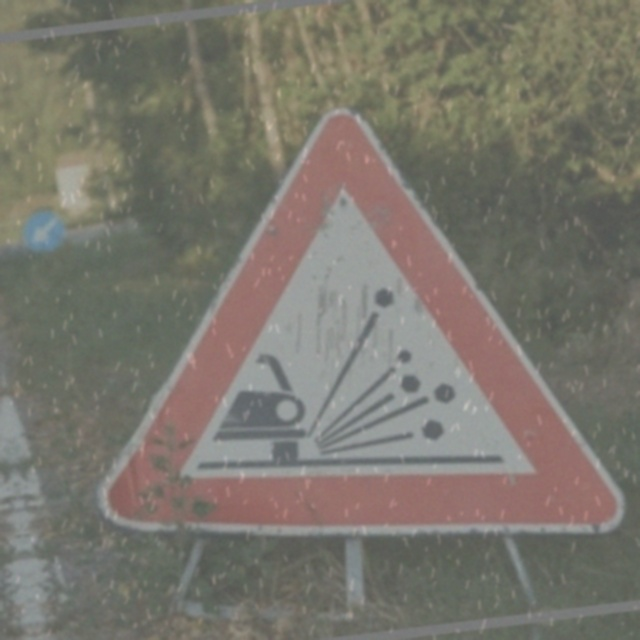Loose_Gravel: (77, 90, 590, 566)
